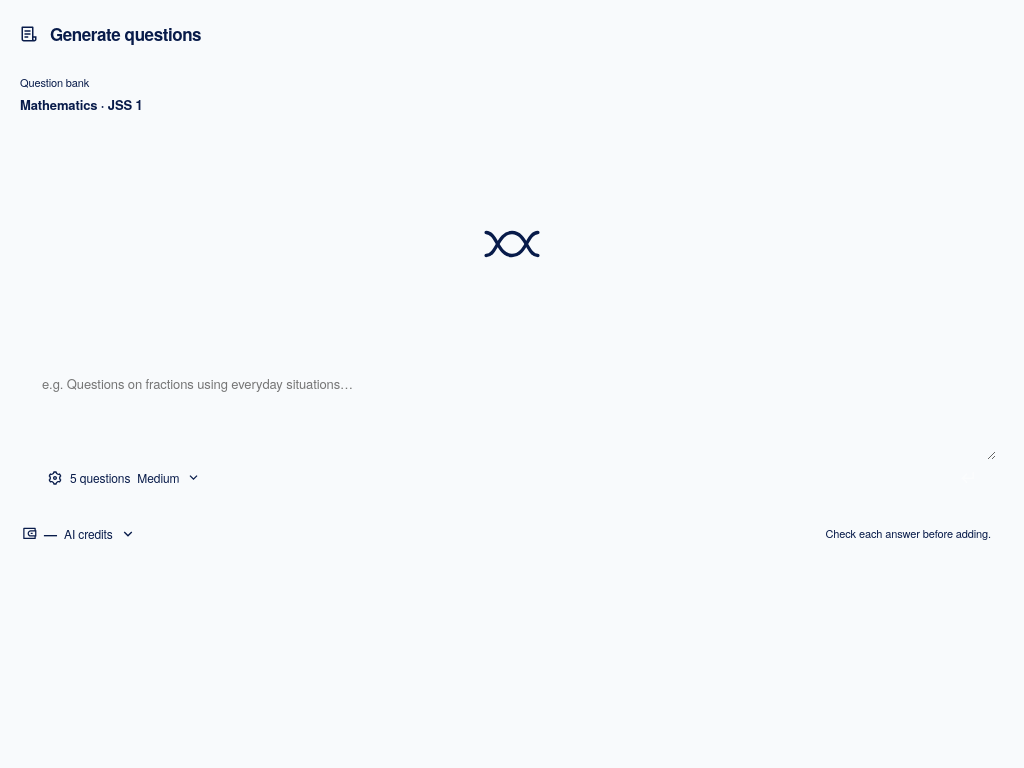
Test case: Teacher AI authoring › uses the selected bank and minimal prompt, opens review without saving
In the text box named "Describe questions to generate": (512, 410) [28,360,996,460], type "Fractions in everyday life"
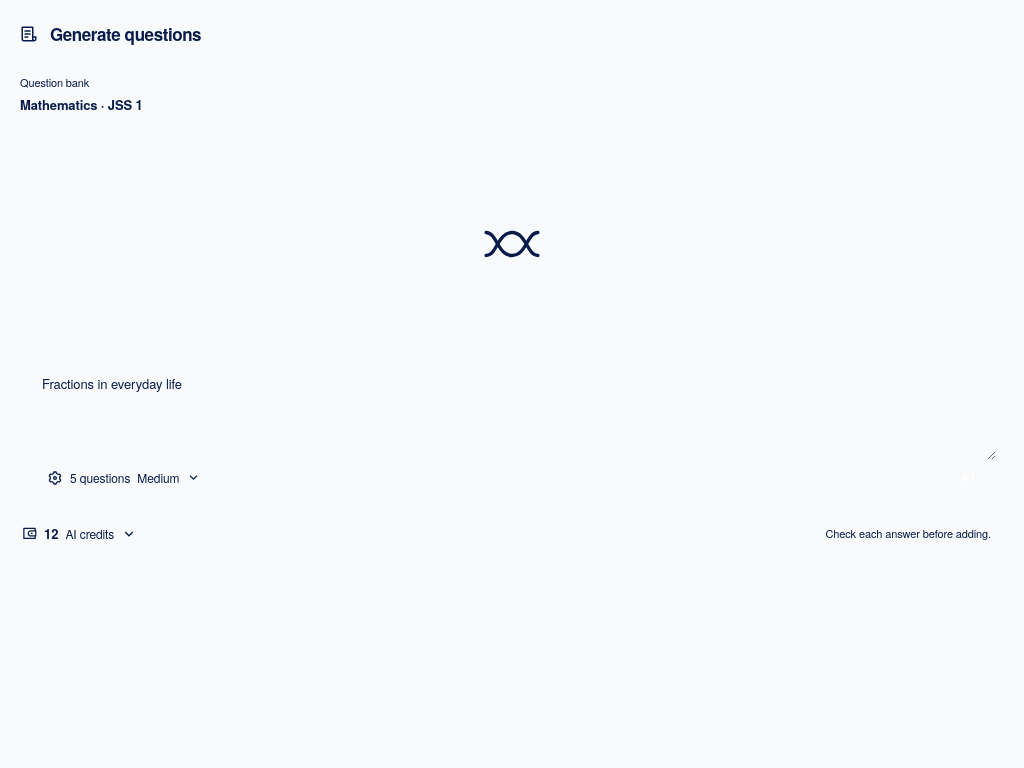
Click the button named "Generate questions": (968, 478) [951,460,986,495]
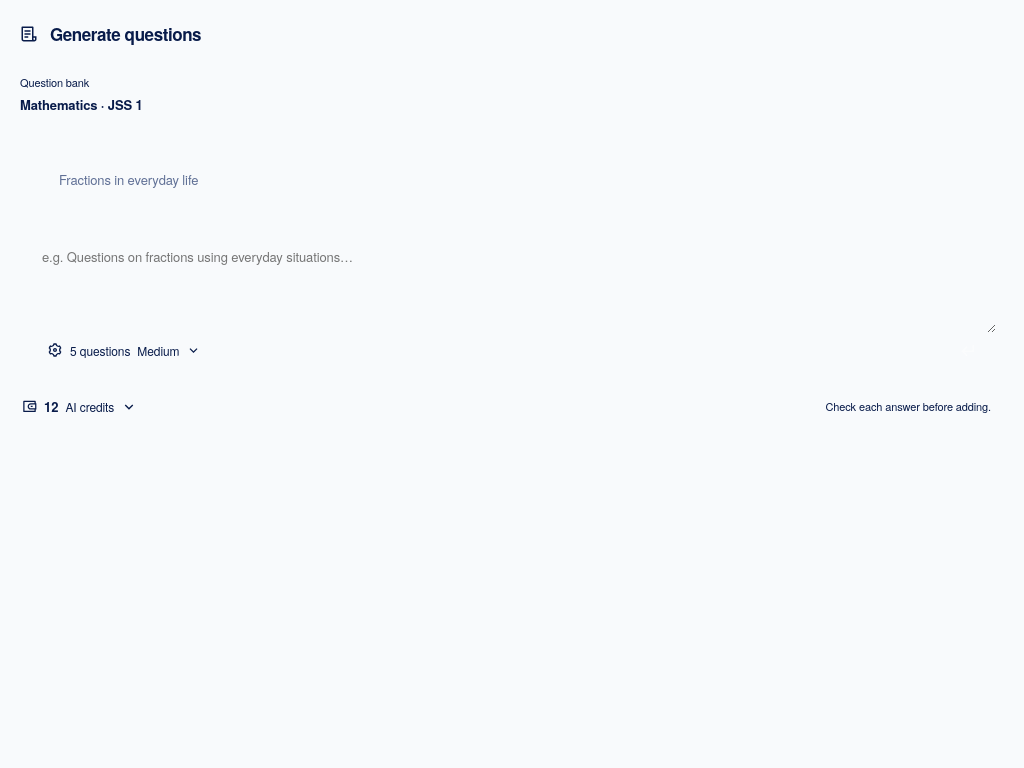
Now the text box named "Describe questions to generate" is empty, box [28,233,996,333]
Now the text "Fractions in everyday life" is shown, box [59,170,198,189]
